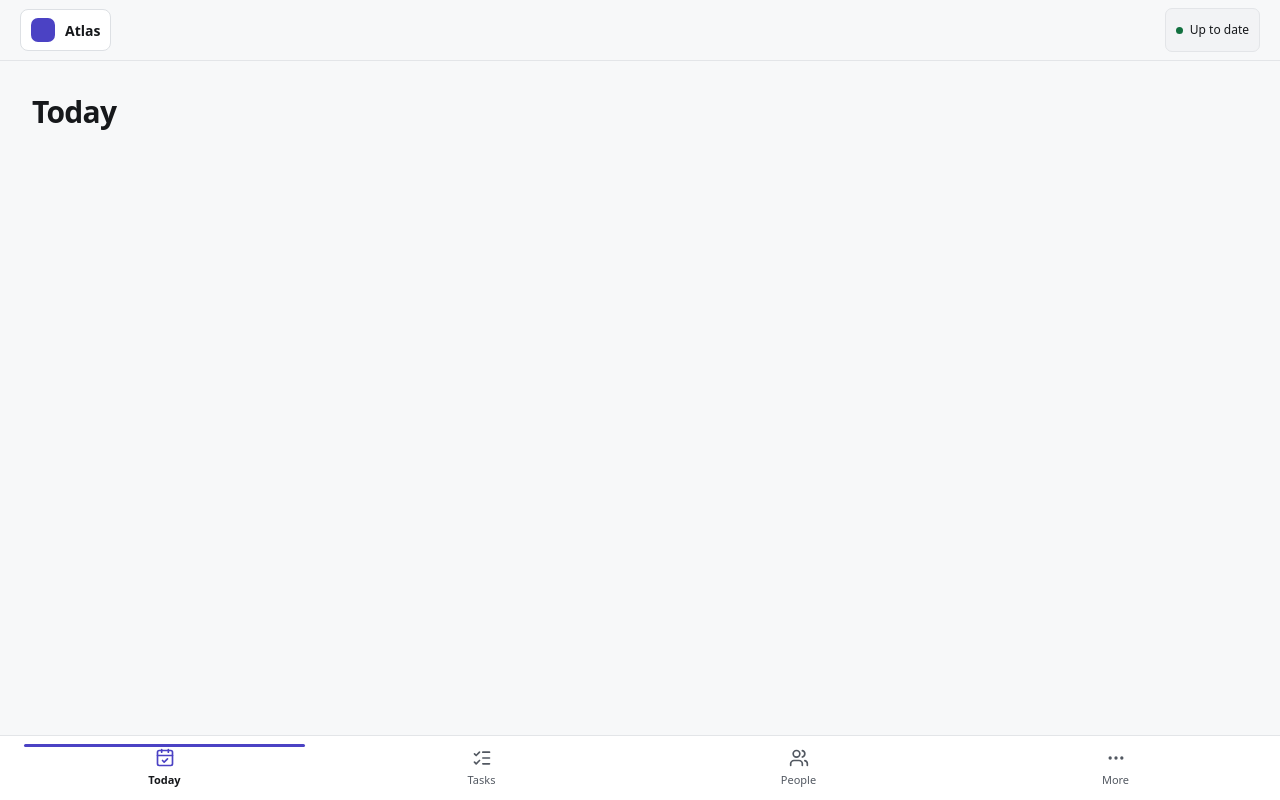
R10: the mobile account entry (More → account control) › Escape on the picker returns focus to More (the account control closed with the sheet)
Expected: the element showing "Today" is shown, [32,91,116,132]
Click the button "More" at (1116,768), box [959,744,1272,792]
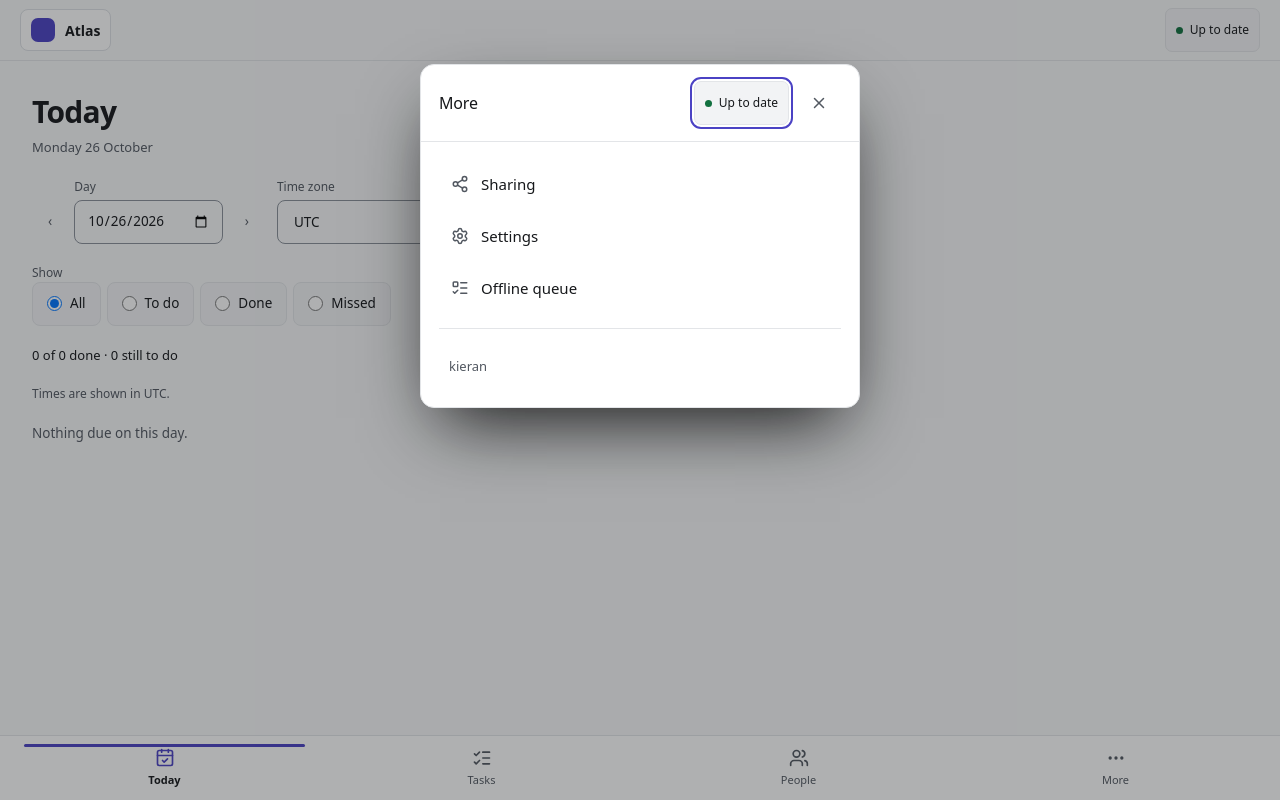
Click the button with aria-label "kieran, switch account" at (468,366), box [439,345,841,389]
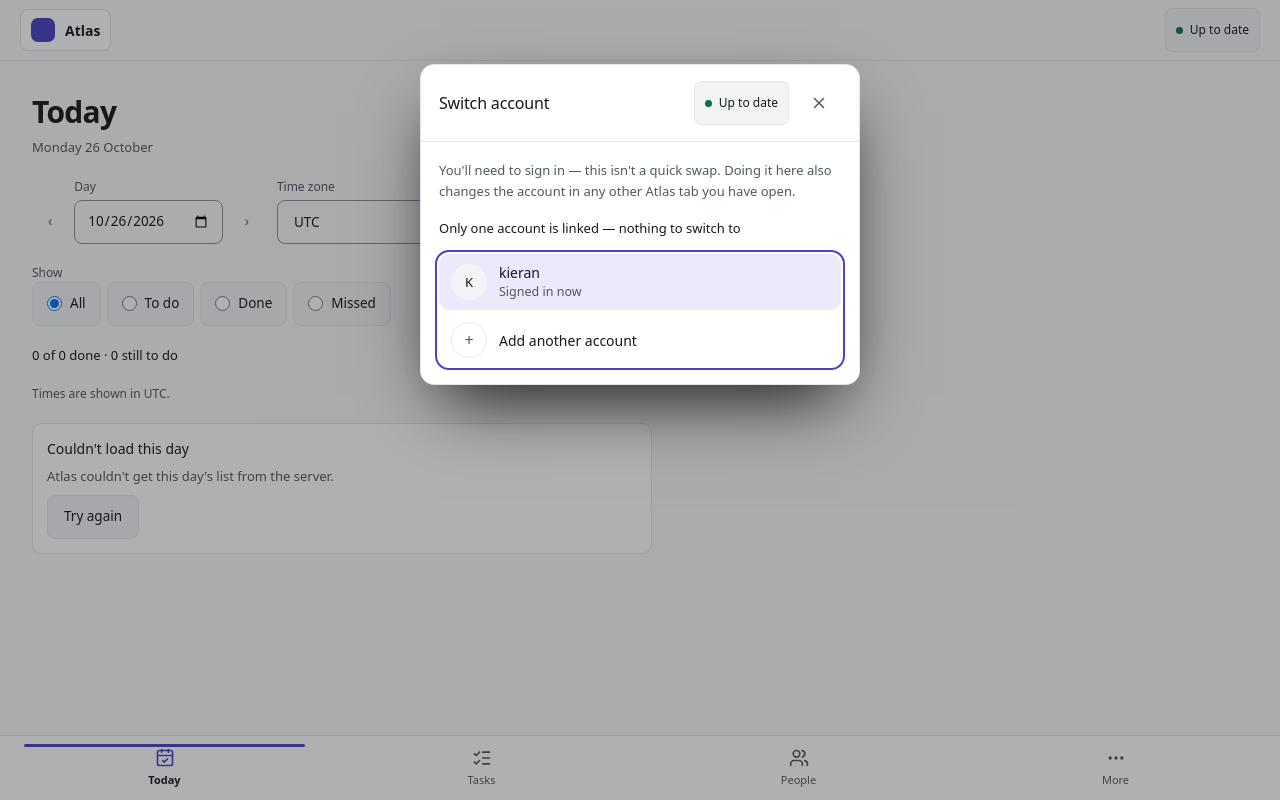
Press Escape in the list, box [439,254,841,366]
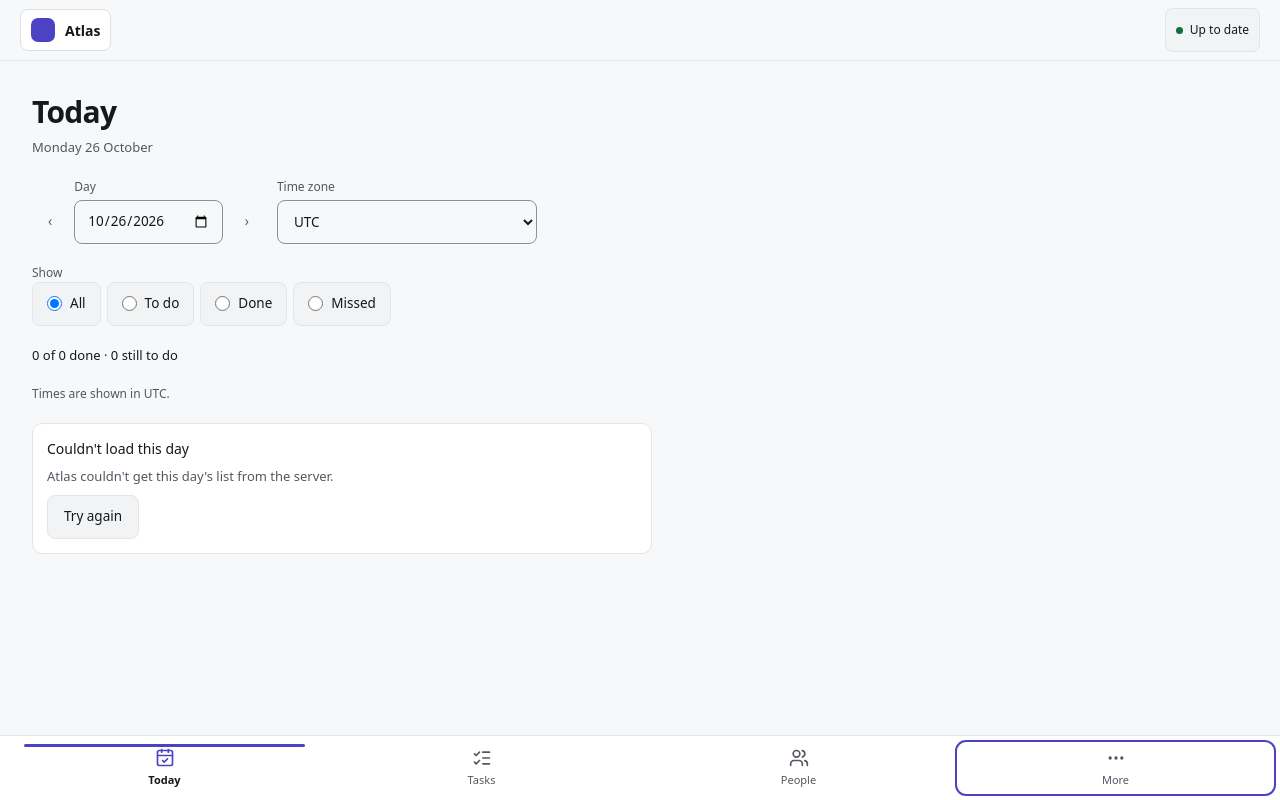
Expected: the dialog is gone
